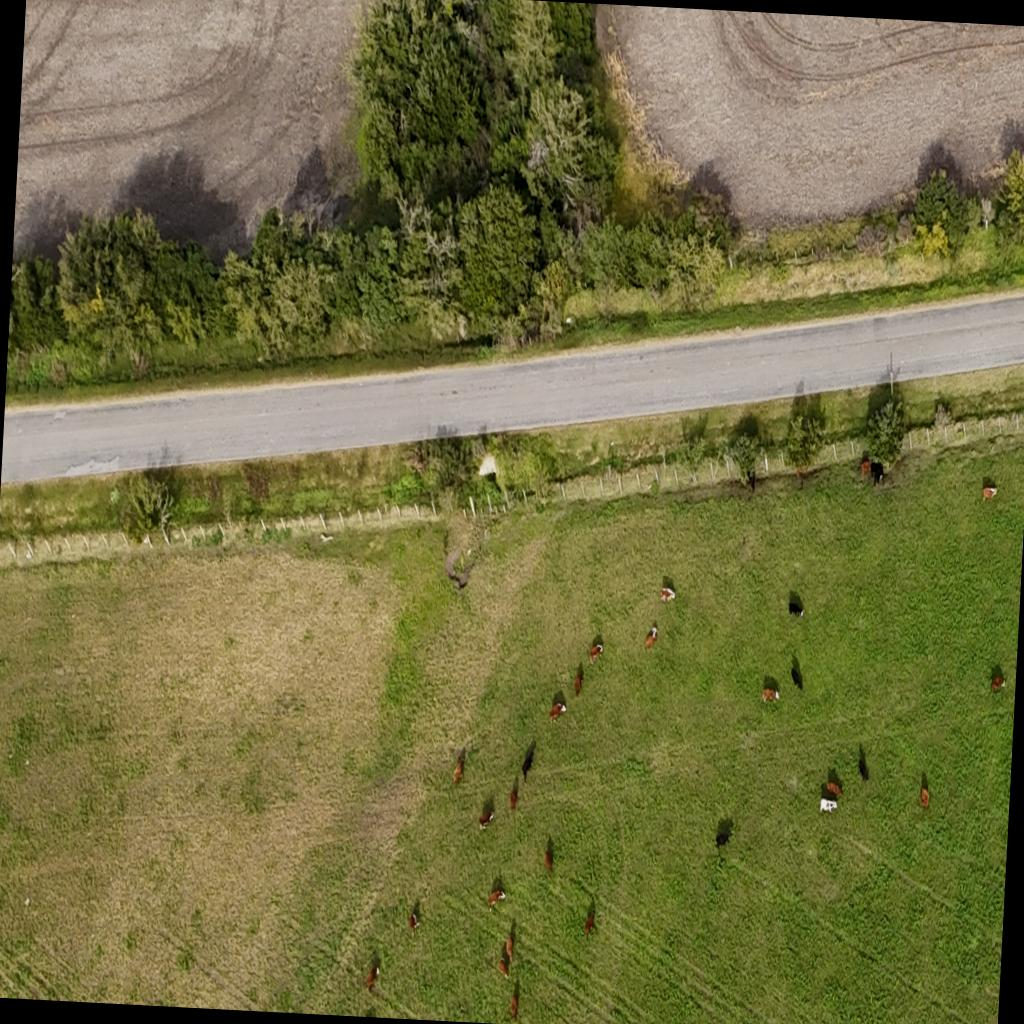cow: (716, 818, 734, 850), (790, 654, 804, 693), (788, 589, 806, 619), (990, 666, 1007, 694), (365, 962, 380, 993), (762, 684, 781, 708), (520, 750, 534, 782), (584, 900, 596, 937), (487, 888, 506, 910), (548, 702, 566, 724), (857, 754, 870, 784), (870, 460, 885, 486), (826, 780, 845, 799), (544, 836, 554, 872), (644, 625, 658, 650), (590, 640, 604, 664), (859, 454, 873, 478), (452, 758, 464, 786), (794, 465, 810, 486), (508, 990, 518, 1023), (478, 812, 494, 832), (508, 780, 518, 812), (498, 957, 510, 983), (408, 913, 420, 938), (660, 586, 676, 604), (982, 485, 998, 502), (573, 670, 582, 697), (920, 786, 930, 808)
